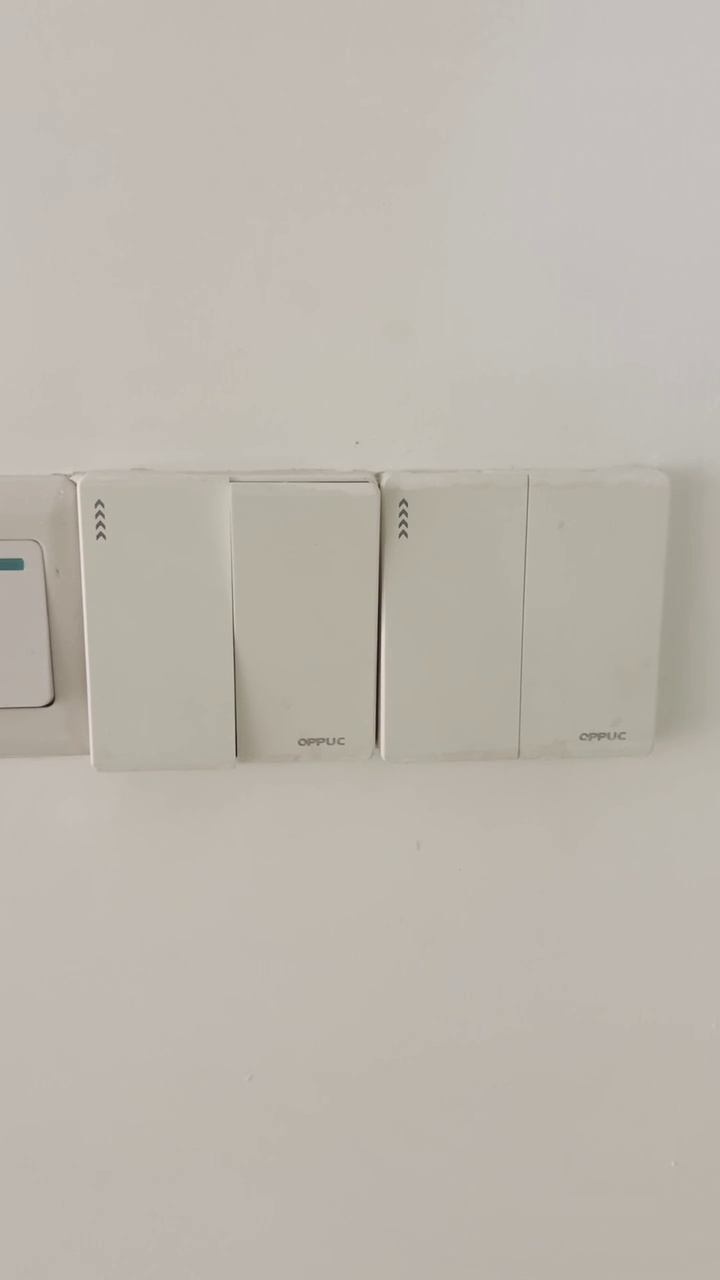button1: (82, 475, 230, 767), (525, 481, 667, 754), (385, 483, 521, 754), (240, 491, 375, 760)
